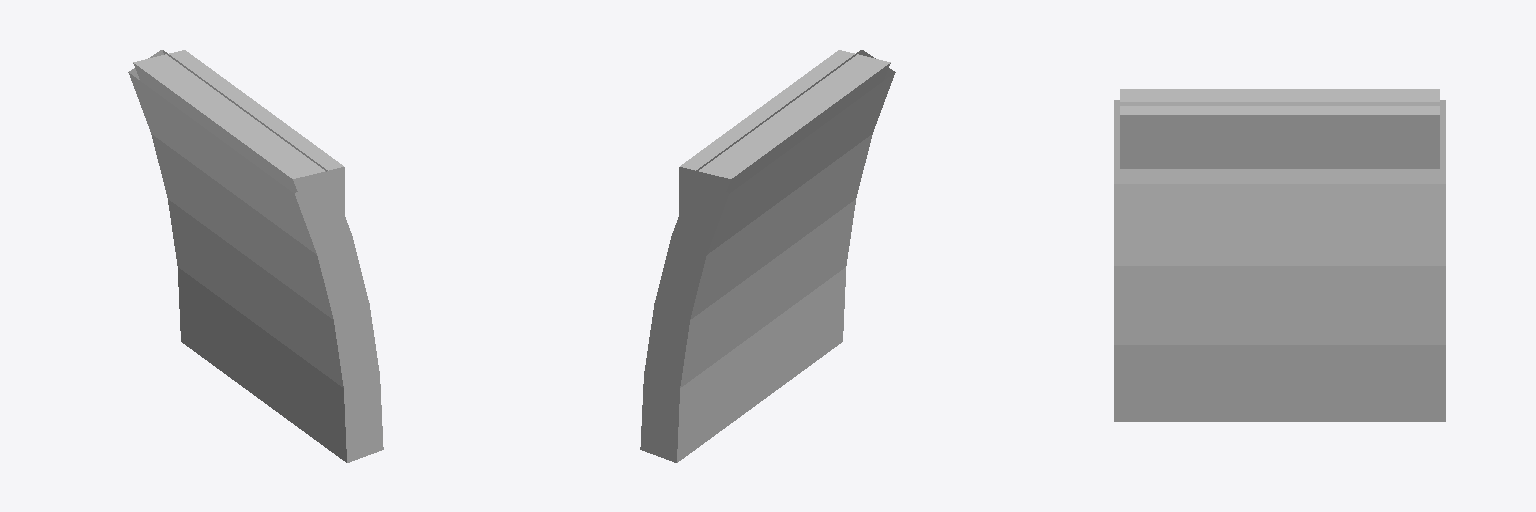
Rendered from lapis_five_arch_bottom.obj.
The picture shows the model from 3 angles: view 1: azimuth 30°, elevation 25°; view 2: azimuth 150°, elevation 25°; view 3: azimuth 270°, elevation 25°; orthographic projection.
Visible parts, largest first — view 1: Arch_Bottom_Cube.012; view 2: Arch_Bottom_Cube.012; view 3: Arch_Bottom_Cube.012.
Part boxes in pixels (x1,y1,x2,y2): Arch_Bottom_Cube.012: (128, 50, 383, 462); Arch_Bottom_Cube.012: (640, 50, 895, 462); Arch_Bottom_Cube.012: (1114, 89, 1445, 421).
Bounding box in the file's own units: 0.3218 × 1.03 × 1.04.